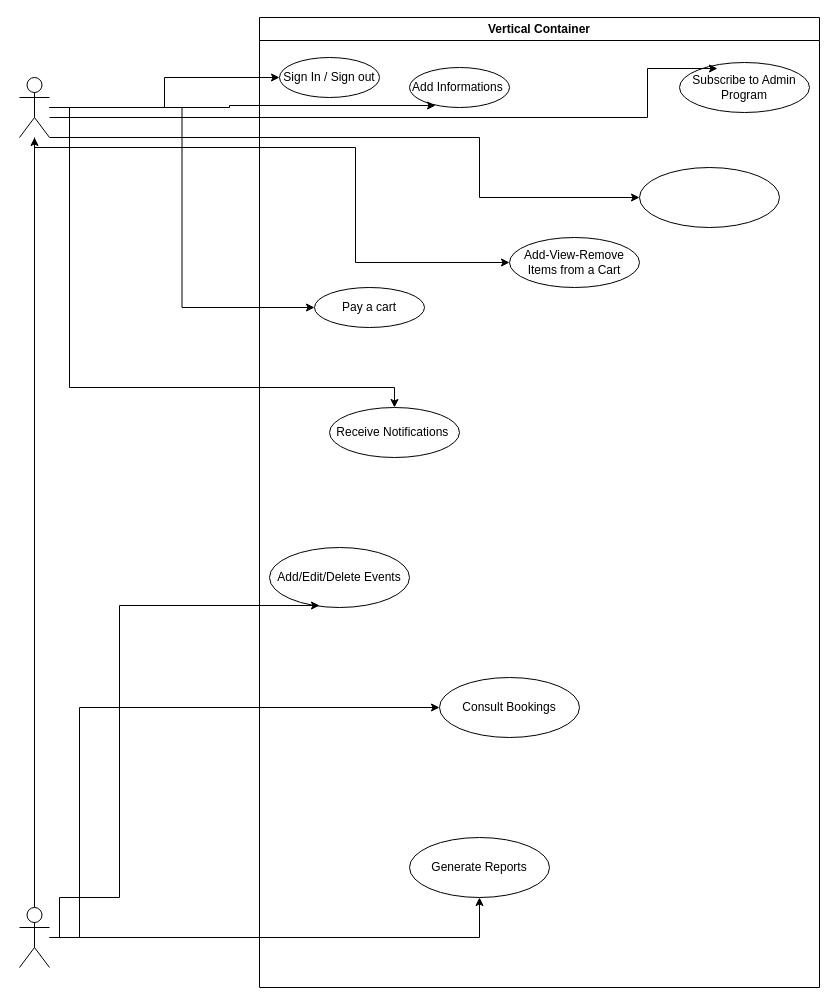
The diagram is 837 pixels wide and 1006 high, and some of its shapes have lost their labels. The shapes that lost their labels are listed below. From the top down, each one's centre as x and y in pixels, then its label:
the point at 34,107: Users
the point at 709,197: Generate Tickets(QR Code or Download )
the point at 34,937: Admin
